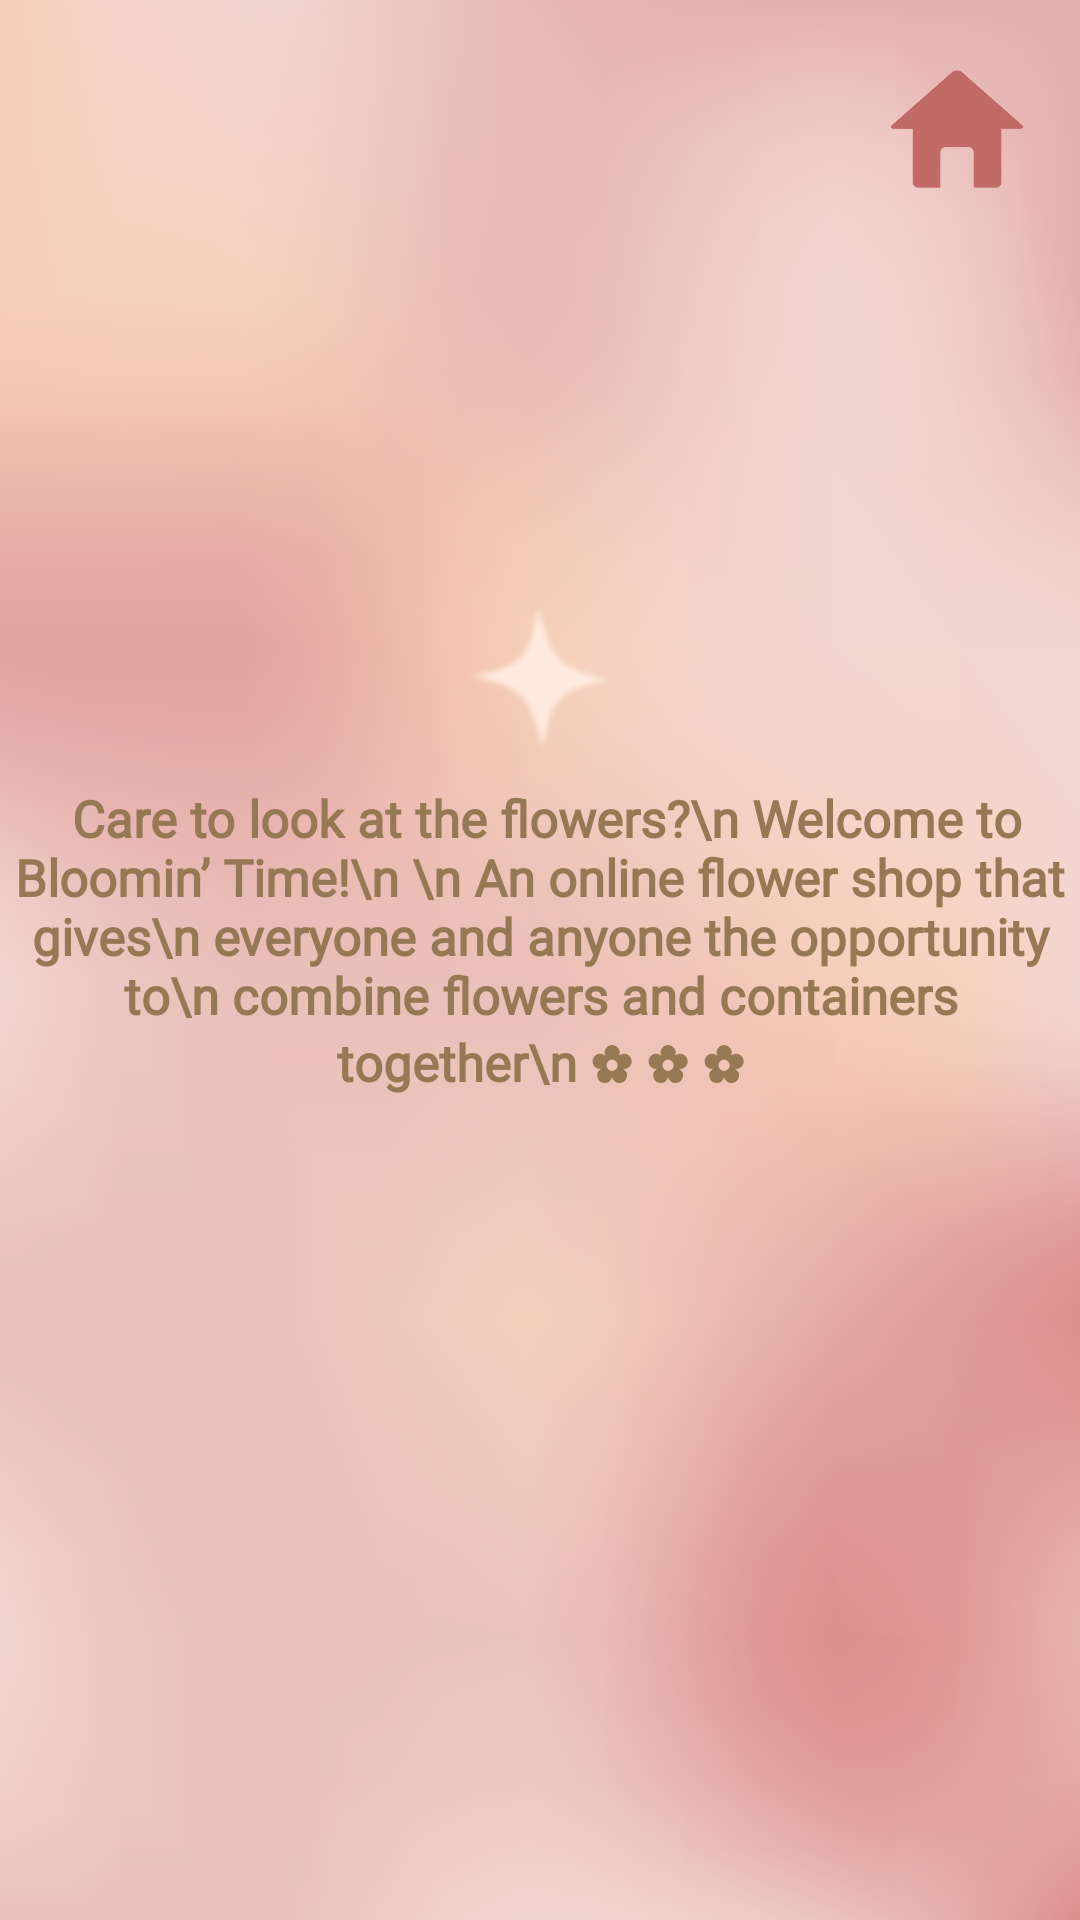

Where icons sit on this 1080 x 1920 app screen, as (left=x1, top=y1, right=x2, bottom=y2):
home darkicon: (left=855, top=70, right=1023, bottom=237)
star: (left=434, top=576, right=603, bottom=780)
